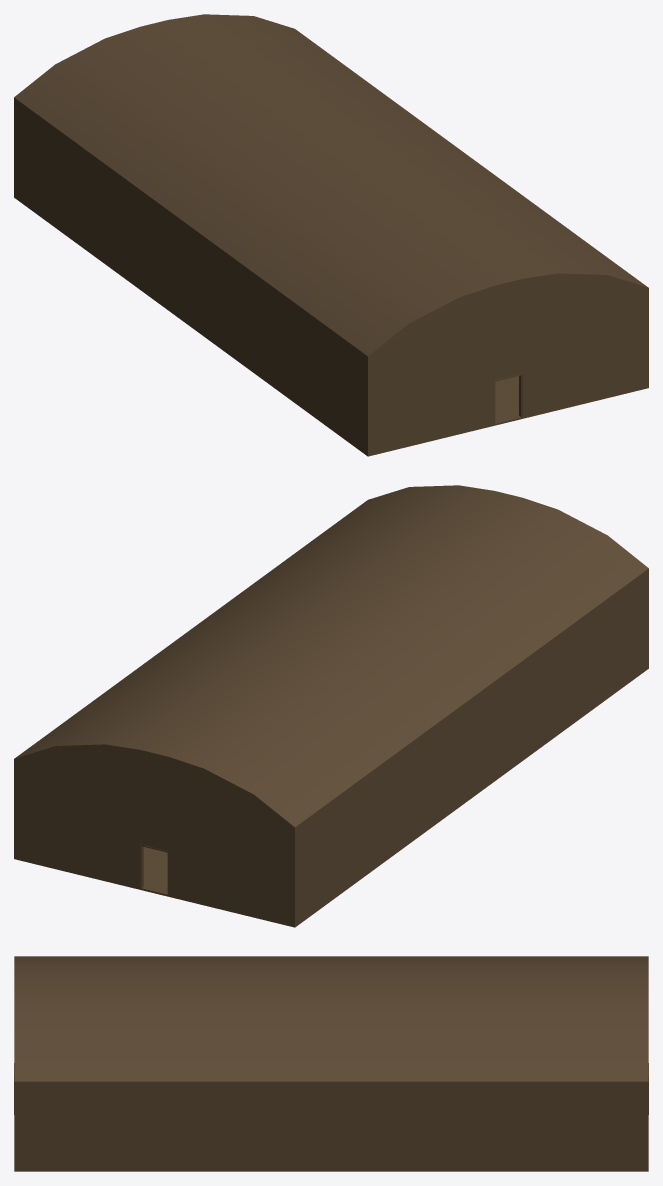
File: SM_Carriage_Cargo.fbx
The picture shows the model from 3 angles, top to bottom: view 1: azimuth 30°, elevation 25°; view 2: azimuth 150°, elevation 25°; view 3: azimuth 270°, elevation 25°; orthographic projection. The views are drawn at different scales.
Parts seen in each view (by area): view 1: GEO_Carriage_Cargo; view 2: GEO_Carriage_Cargo; view 3: GEO_Carriage_Cargo.
Boxes of the visible parts, <box> form: GEO_Carriage_Cargo: <box>14,14,648,456</box>; GEO_Carriage_Cargo: <box>14,485,648,927</box>; GEO_Carriage_Cargo: <box>14,956,648,1171</box>.
Size of the model in its own units: 1426 by 679 by 3115.
